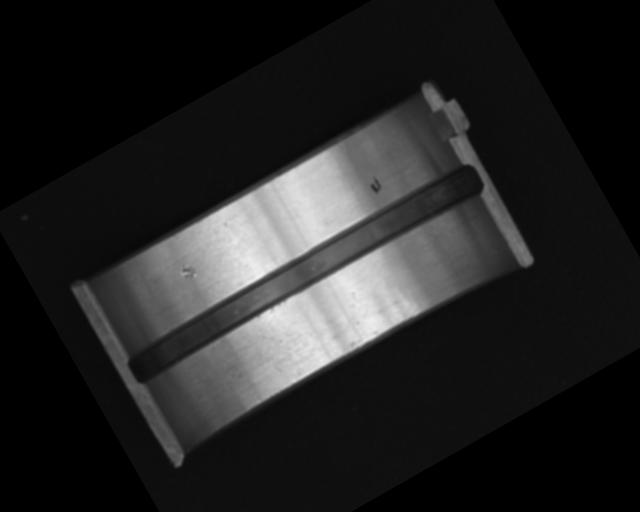blot: (366, 174, 385, 196)
bruise: (177, 259, 200, 283)
gap: (120, 157, 486, 387)
